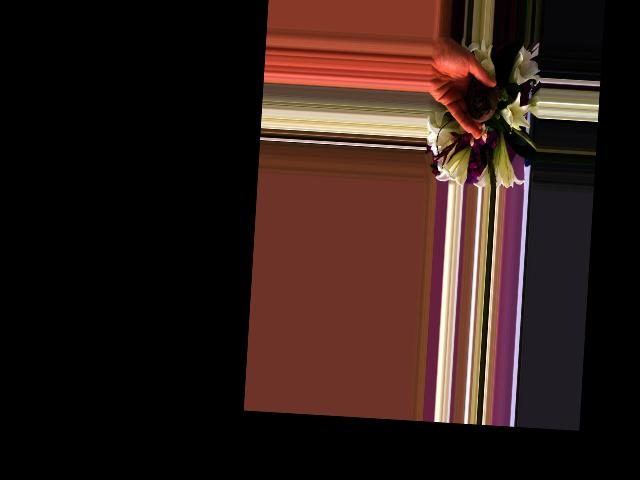beet: (463, 82, 498, 124)
